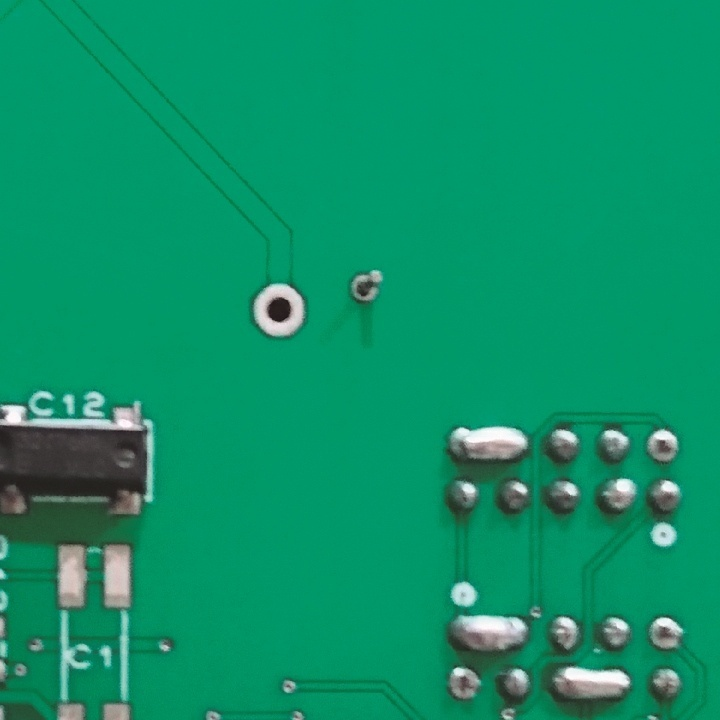F: (248, 279, 312, 341), (645, 609, 687, 657), (350, 264, 387, 309), (443, 663, 483, 704), (642, 425, 680, 467)
P: (443, 415, 534, 470), (548, 661, 636, 708), (444, 608, 531, 652)
